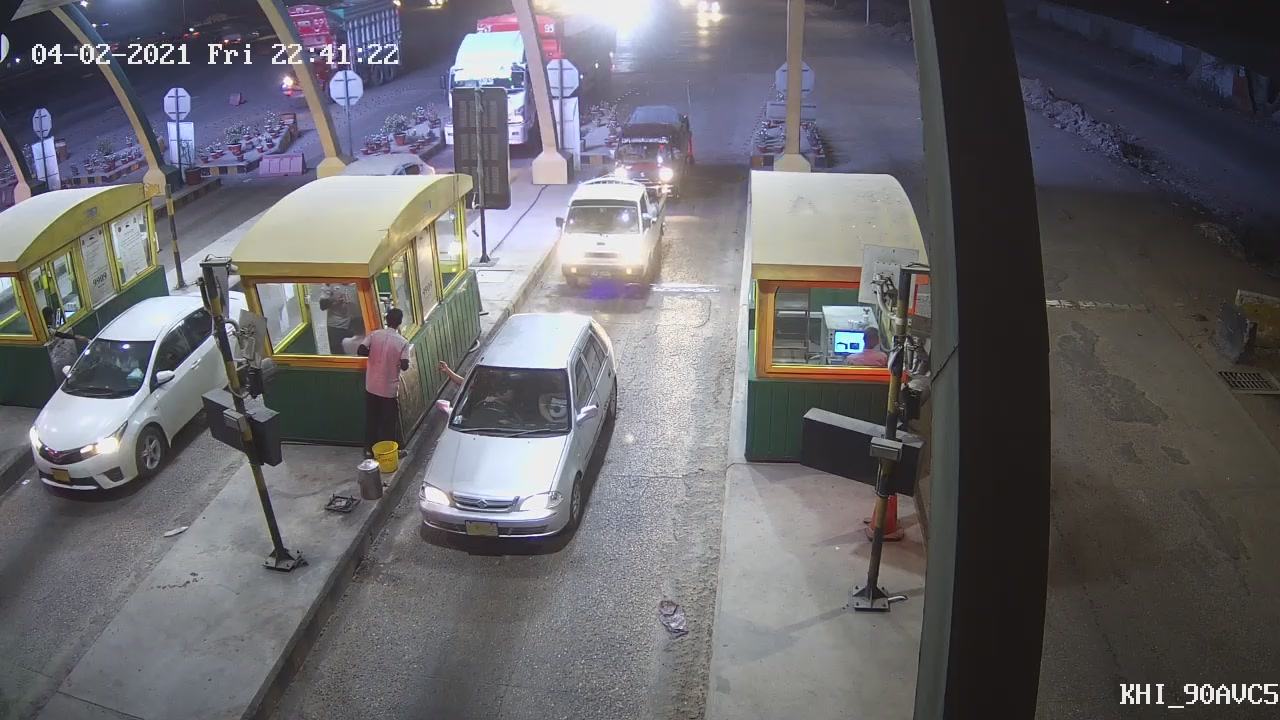F1: (413, 308, 620, 552), (553, 169, 671, 301)
